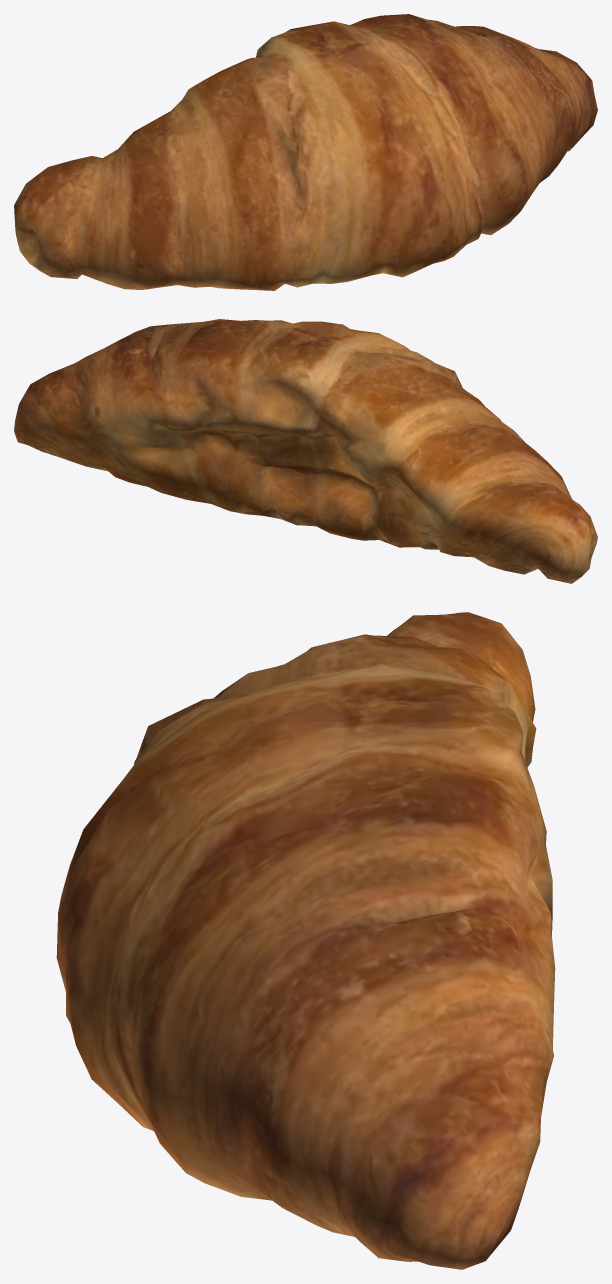
The model's file is croissant.glb.
3 views of the same model, one above another, from view 1: azimuth 30°, elevation 25°; view 2: azimuth 150°, elevation 25°; view 3: azimuth 270°, elevation 25° (orthographic). The views are drawn at different scales.
Parts seen in each view (by area): view 1: croissant; view 2: croissant; view 3: croissant.
Part boxes in pixels (x1,y1,x2,y2): croissant: (14,14,597,290); croissant: (14,319,597,583); croissant: (56,612,555,1269).
Bounding box in the file's own units: 0.2 × 0.062 × 0.0755.
1 material, 1 textured.
